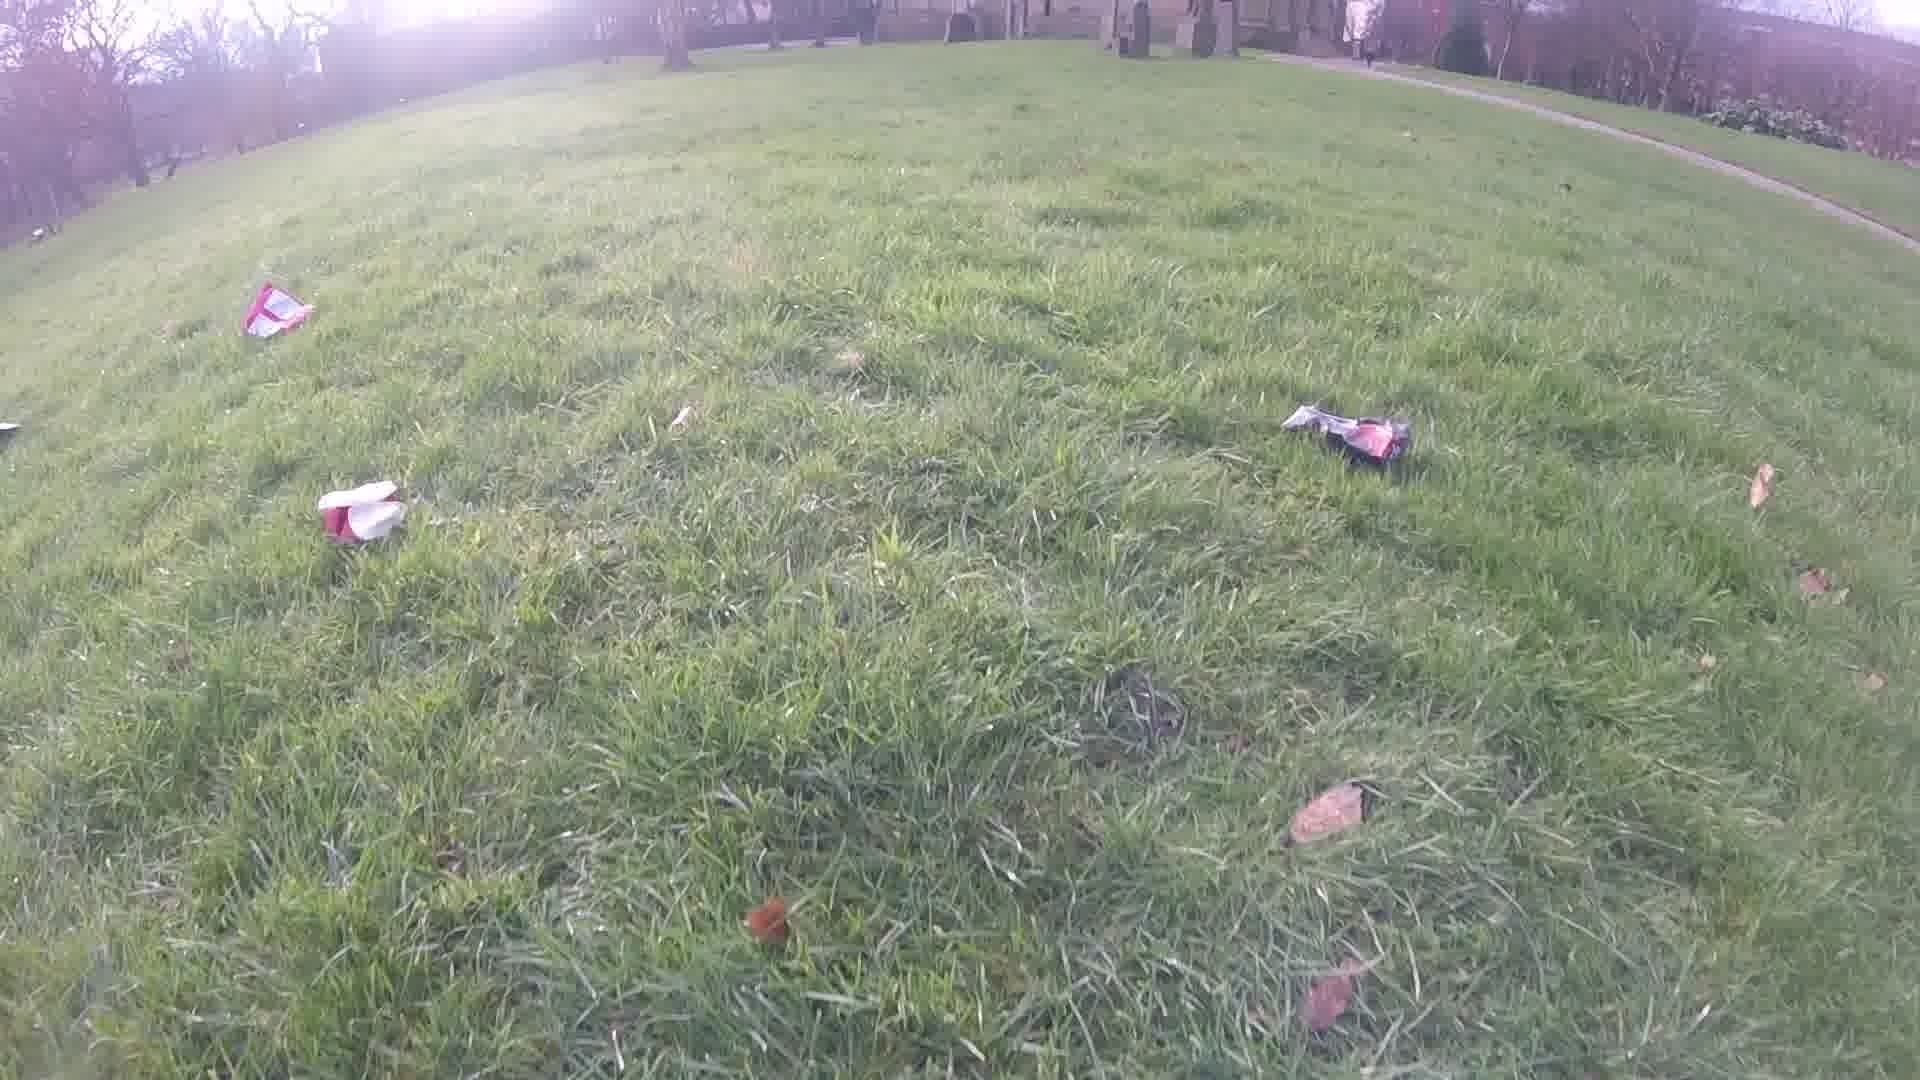litter: (1276, 397, 1408, 471), (314, 479, 405, 545), (235, 280, 310, 338), (0, 422, 21, 438)
